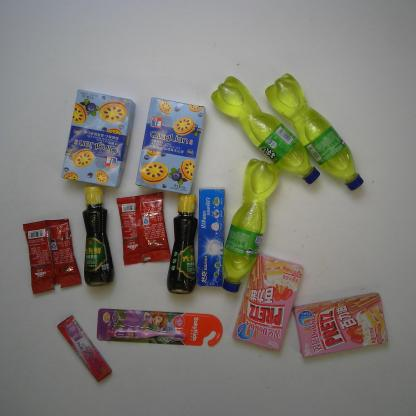Candy: (57, 315, 111, 382)
Dessert: (61, 88, 136, 188), (231, 254, 304, 353), (136, 97, 207, 194), (293, 291, 387, 358)
Drink: (209, 74, 322, 186), (265, 72, 365, 190), (223, 158, 282, 294)
Instant Drink: (21, 215, 83, 296), (115, 191, 172, 267)
Personal Hygiene: (97, 306, 225, 346), (198, 187, 226, 288)
Seasoner: (80, 184, 118, 288), (166, 192, 202, 294)
